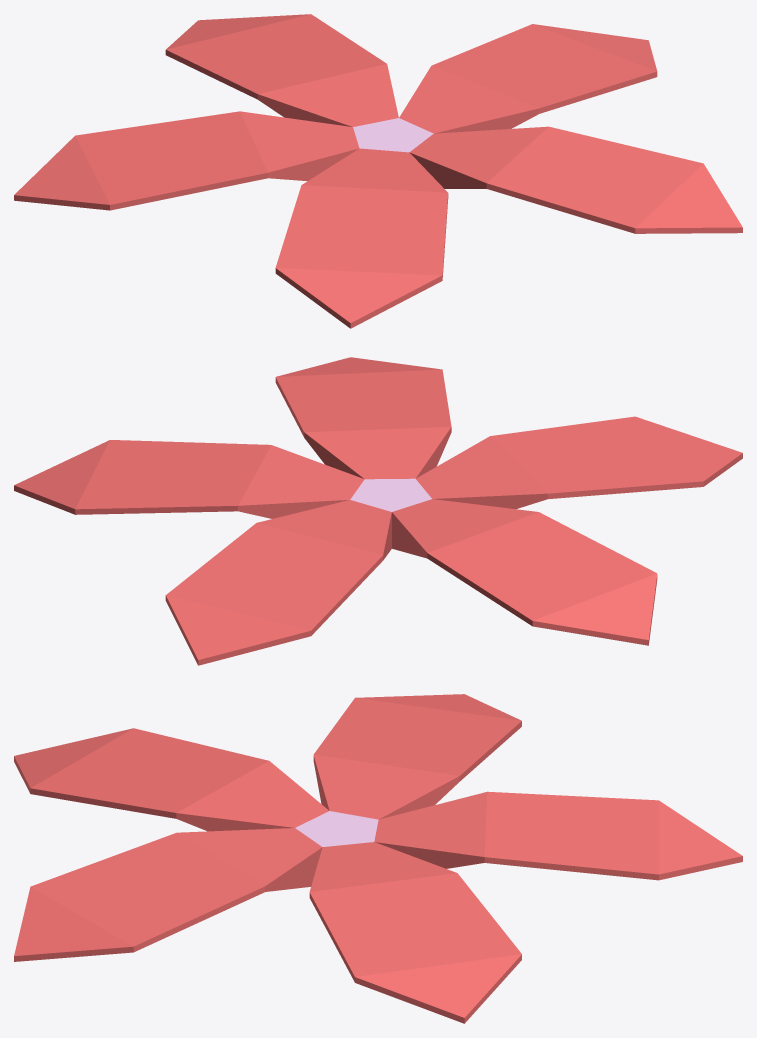
Rendered from Flower_08.fbx.
The picture shows the model from 3 angles, top to bottom: view 1: azimuth 30°, elevation 25°; view 2: azimuth 150°, elevation 25°; view 3: azimuth 270°, elevation 25°; orthographic projection. The views are drawn at different scales.
Visible parts, largest first — view 1: Flower_08; view 2: Flower_08; view 3: Flower_08.
Boxes of the visible parts, x1,y1,x2,y2 form: Flower_08: (14, 14, 742, 328); Flower_08: (14, 357, 742, 665); Flower_08: (14, 694, 742, 1023).
Size of the model in its own units: 34.49 by 2.19 by 32.8.
